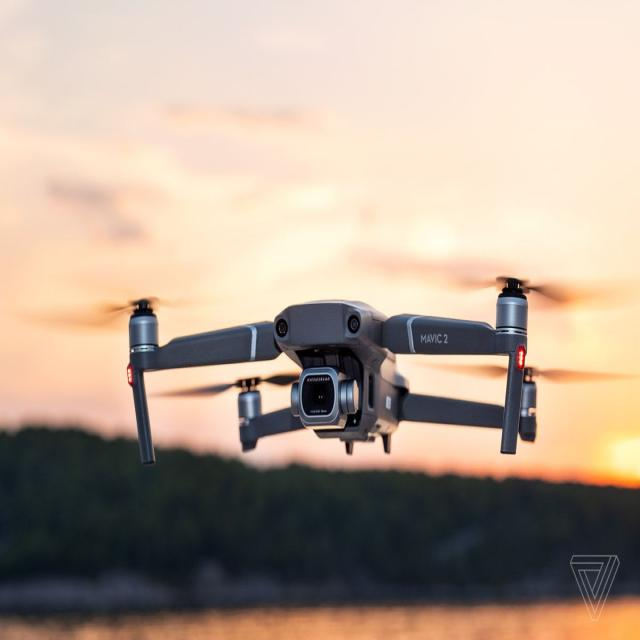drone: (91, 247, 602, 517)
